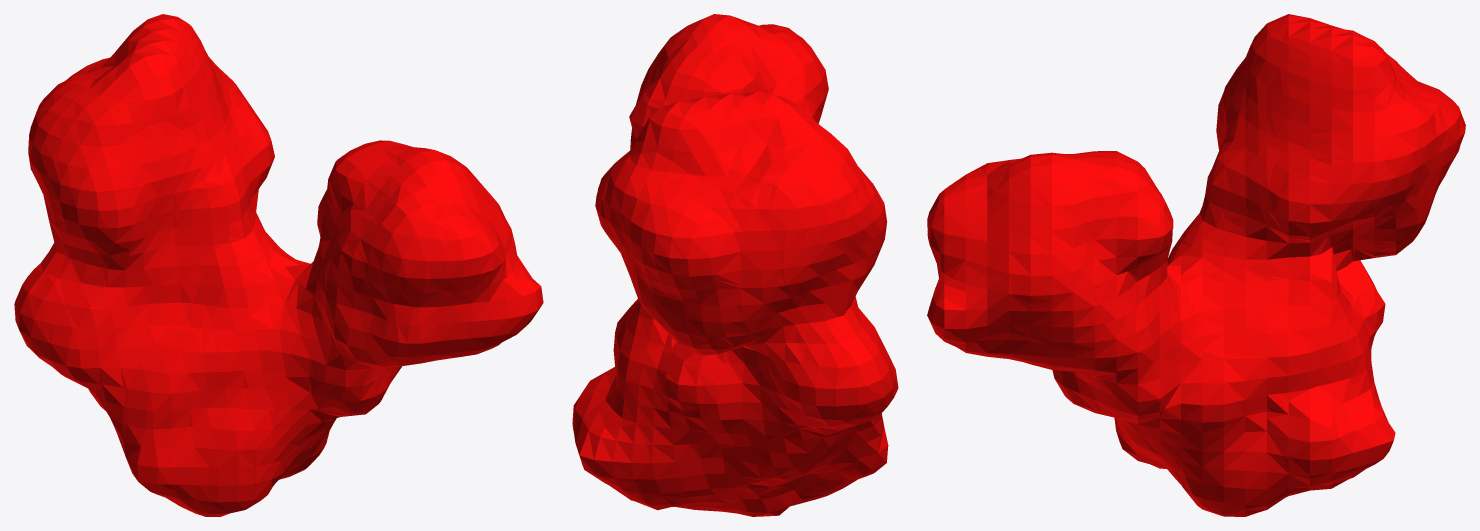
The model's file is hisG_coarse.dae.
3 views of the same model, side by side, from view 1: azimuth 30°, elevation 25°; view 2: azimuth 150°, elevation 25°; view 3: azimuth 270°, elevation 25° (orthographic). The views are drawn at different scales.
Parts seen in each view (by area): view 1: hisG; view 2: hisG; view 3: hisG.
Part boxes in pixels (box(x1,y1,x2,y2)): hisG: box(14, 14, 543, 516); hisG: box(572, 14, 898, 516); hisG: box(927, 14, 1465, 516).
Bounding box in the file's own units: 55.02 × 62.86 × 68.55.
